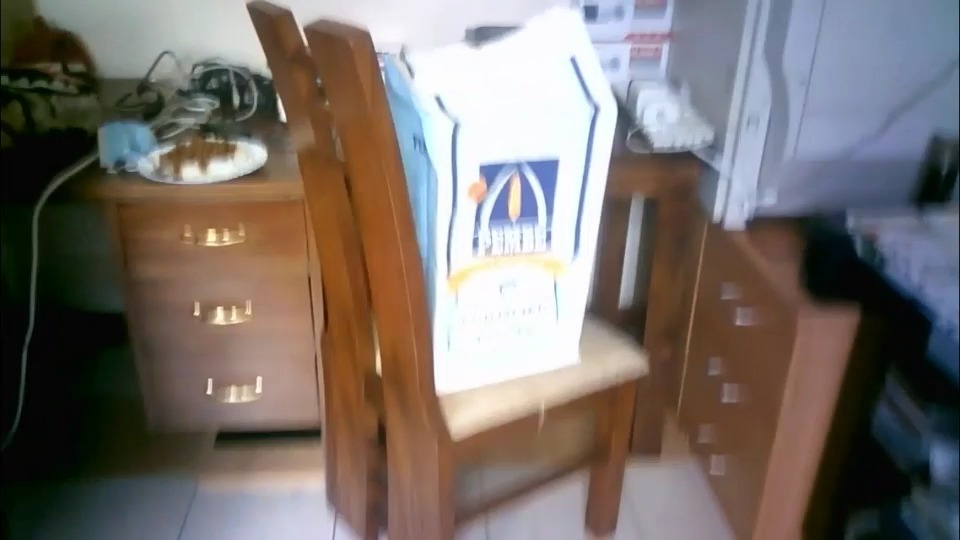wheat_flour_blue_label: (426, 41, 614, 384)
